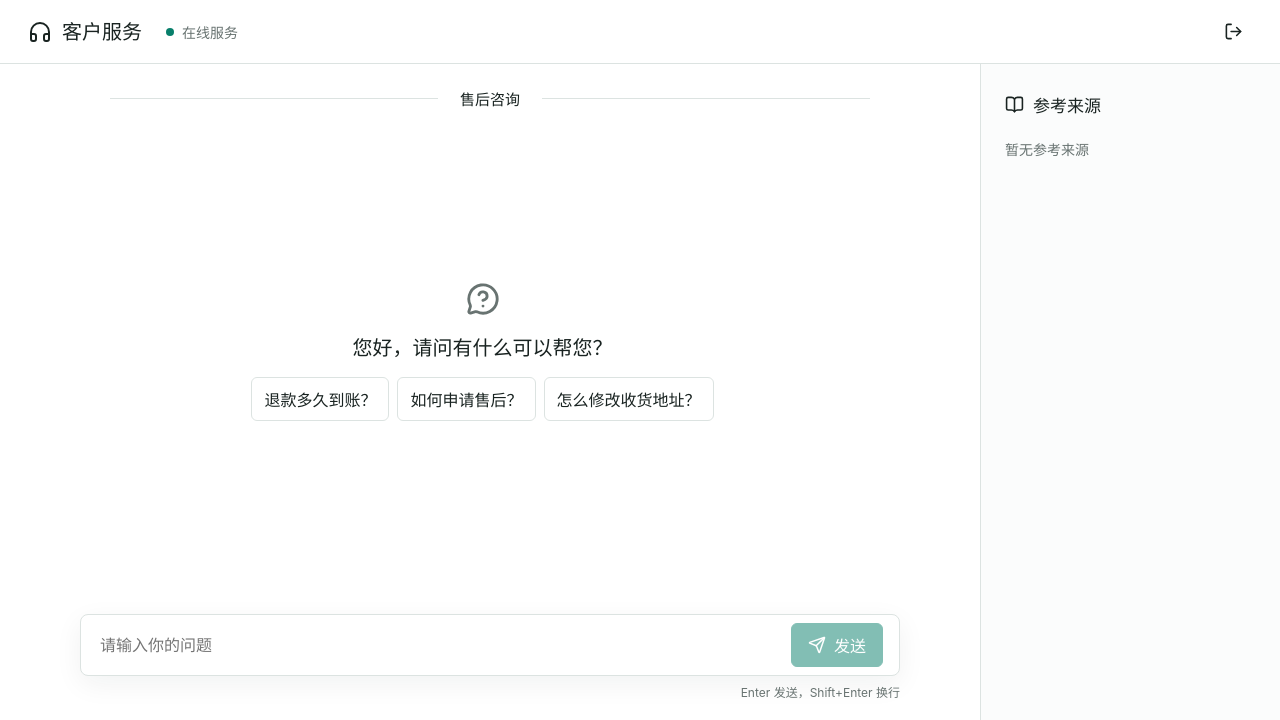
Test: ConsultationPage › renders the refusal reason from the completed event
Type "我的退款通过了吗？" into the text box named "咨询问题".
click(436, 645); type("我的退款通过了吗？")  # box [89,623,783,667]
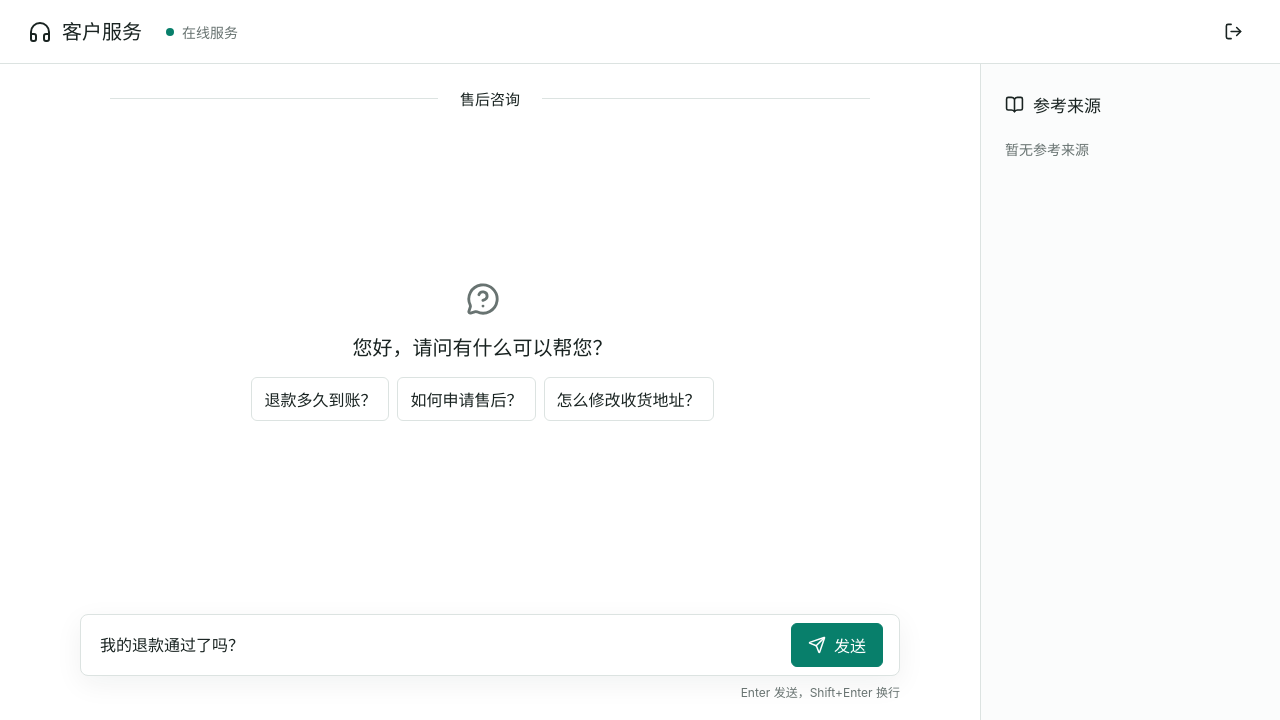
Click the button "发送".
click(837, 645)  # box [791,623,883,667]
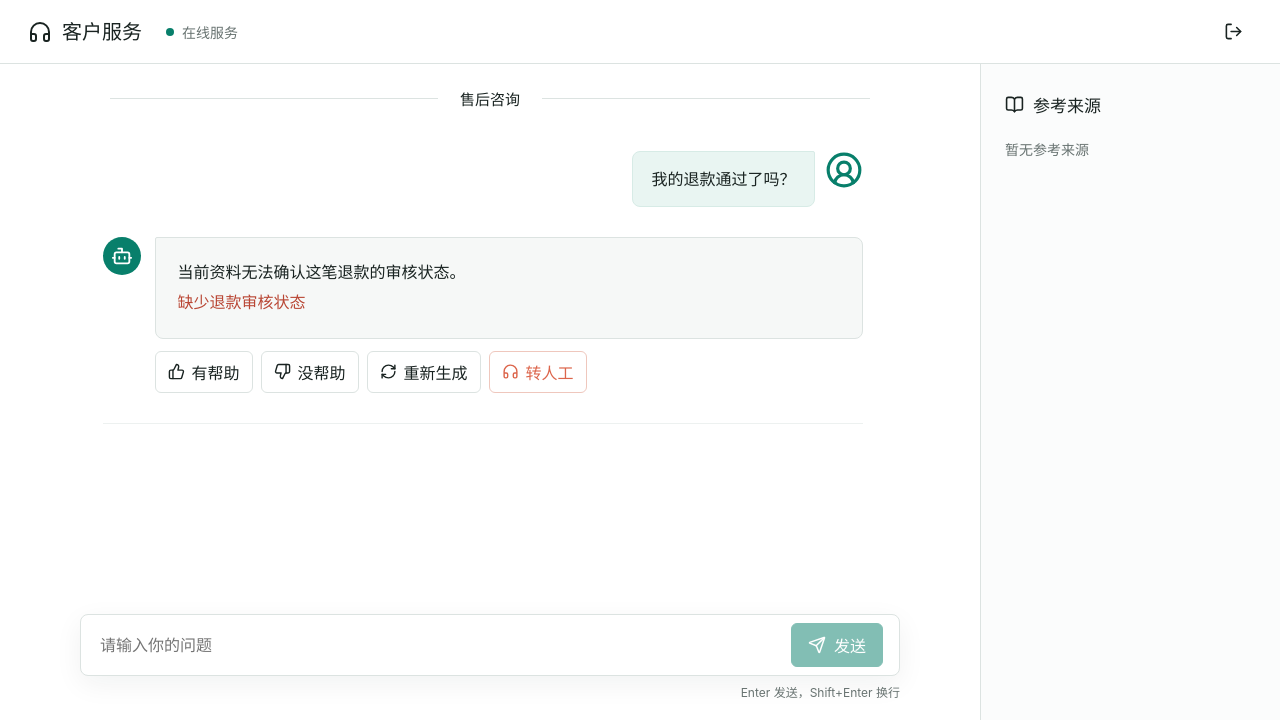
Expected: the text "当前资料无法确认这笔退款的审核状态。" is shown, [178,262,466,282]
Expected: the text "缺少退款审核状态" is shown, [178,292,306,312]
